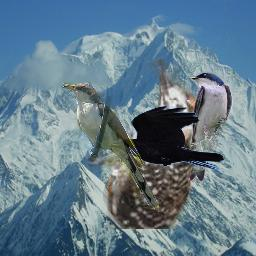Crow: (108, 106, 225, 171)
Cuckoo: (62, 82, 159, 210)
Swallow: (185, 71, 233, 182)
Woodpecker: (88, 57, 202, 229)
